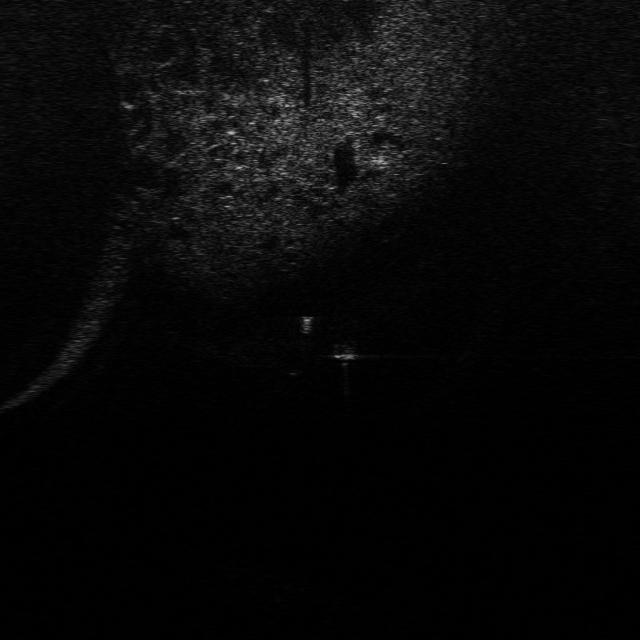cube: (328, 336, 362, 364)
cylinder: (296, 311, 314, 337)
